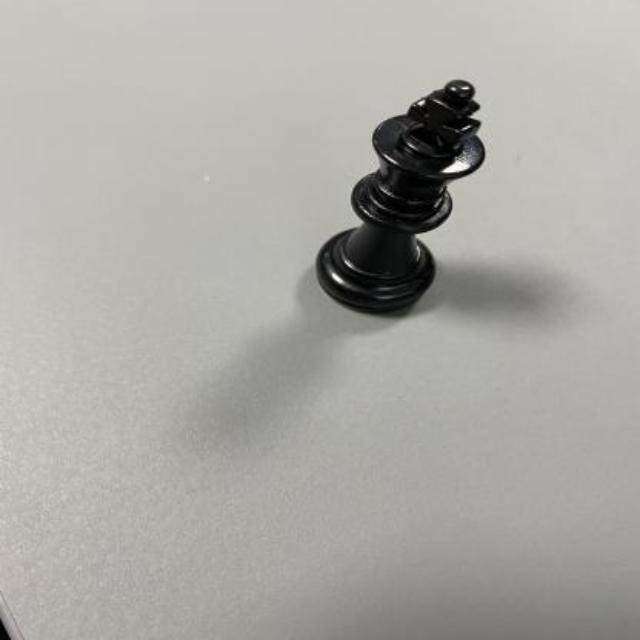black-king: (316, 80, 483, 310)
